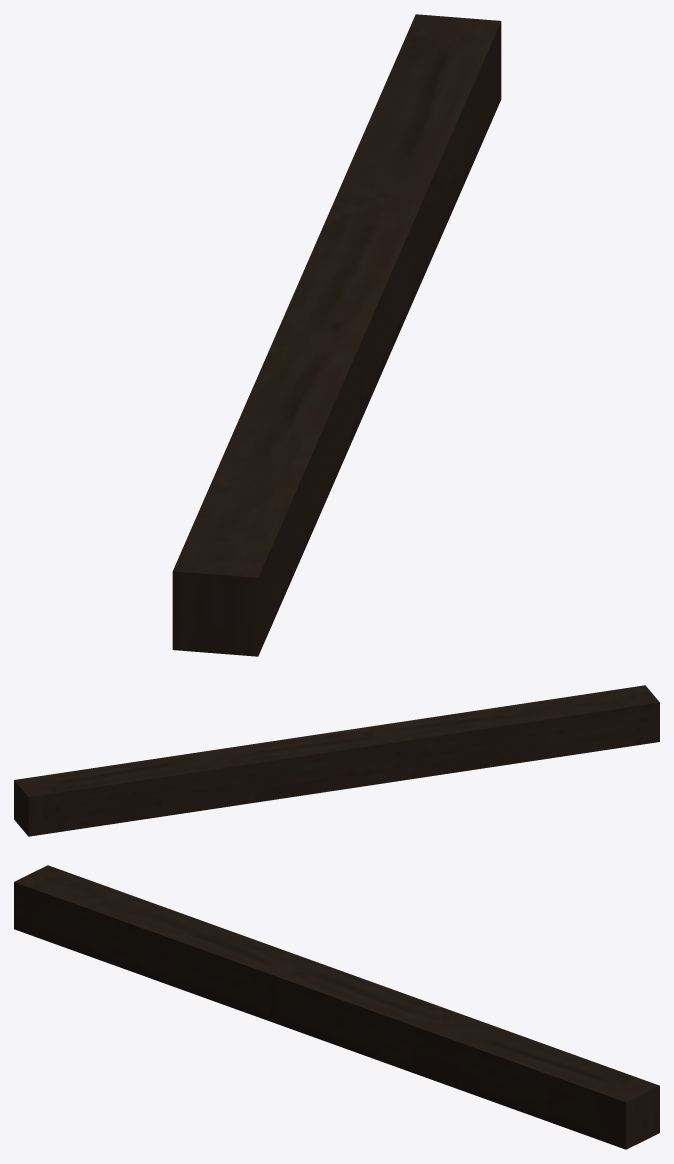
File: ladder_support__side_rail_1.glb
3 renders of one model, top to bottom at view 1: azimuth 30°, elevation 25°; view 2: azimuth 150°, elevation 25°; view 3: azimuth 270°, elevation 25°, orthographic. The views are drawn at different scales.
Visible parts, largest first — view 1: world; view 2: world; view 3: world.
Boxes of the visible parts, box(x1,y1,x2,y2) form: world: box(172, 14, 501, 656); world: box(14, 685, 659, 836); world: box(14, 865, 659, 1149).
Size of the model in its own units: 0.2798 by 0.026 by 0.3219.
Materials: 1 (1 with a texture image).
